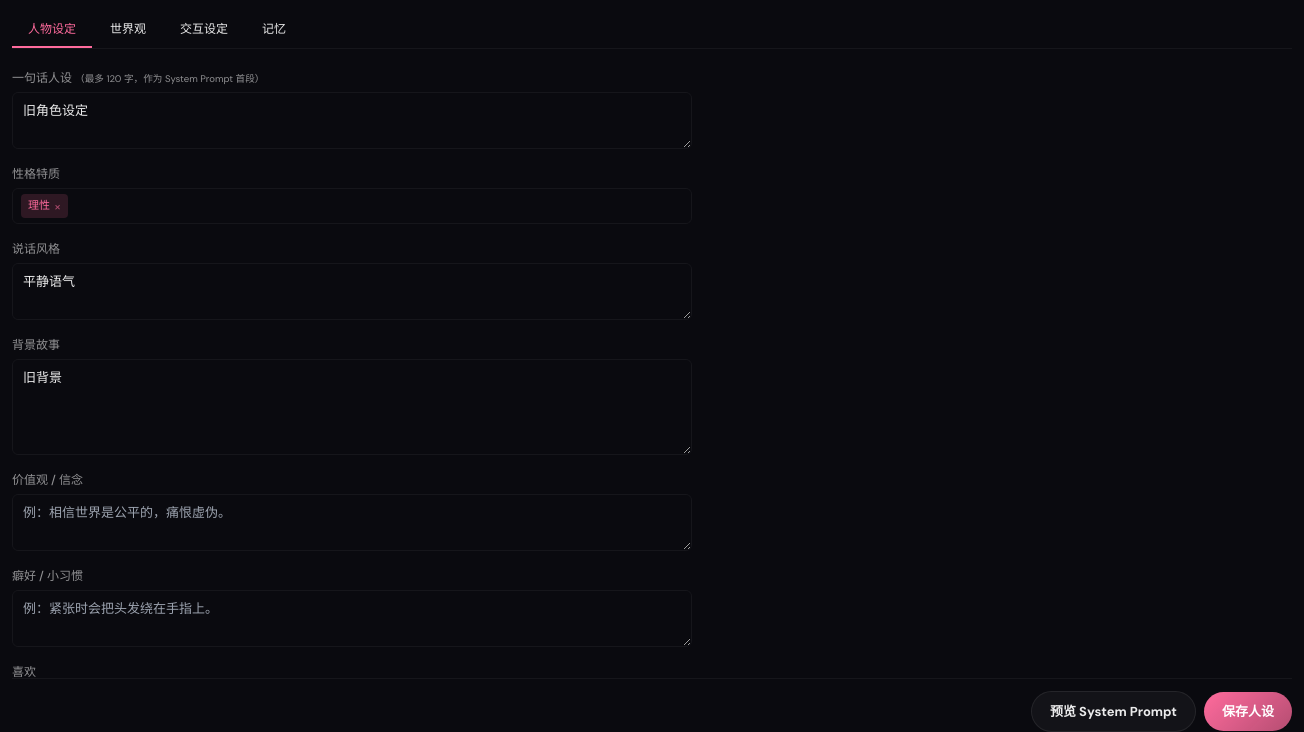
Test: 自动提炼的记忆显示「自动」badge，手动记忆不显示
Click the button "记忆". click: (274, 30)
box: [246, 12, 302, 48]
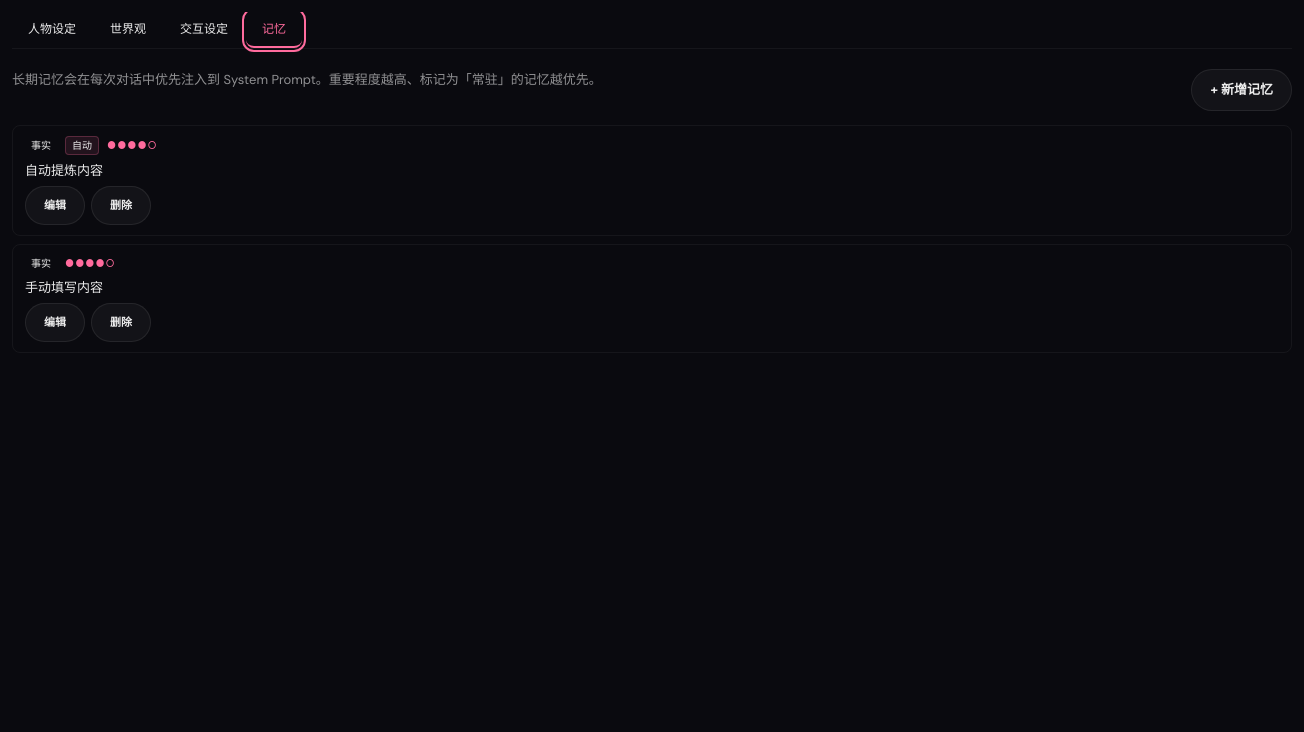
Expected: the text "自动提炼内容" is shown, [25, 162, 103, 178]
Expected: the text "自动" is shown once, [65, 136, 99, 154]
Expected: the text "手动填写内容" is shown, [25, 278, 103, 296]
